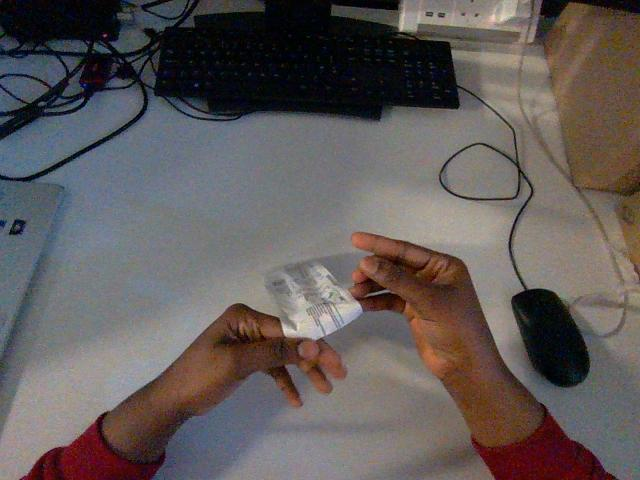syringe: (266, 262, 361, 339)
